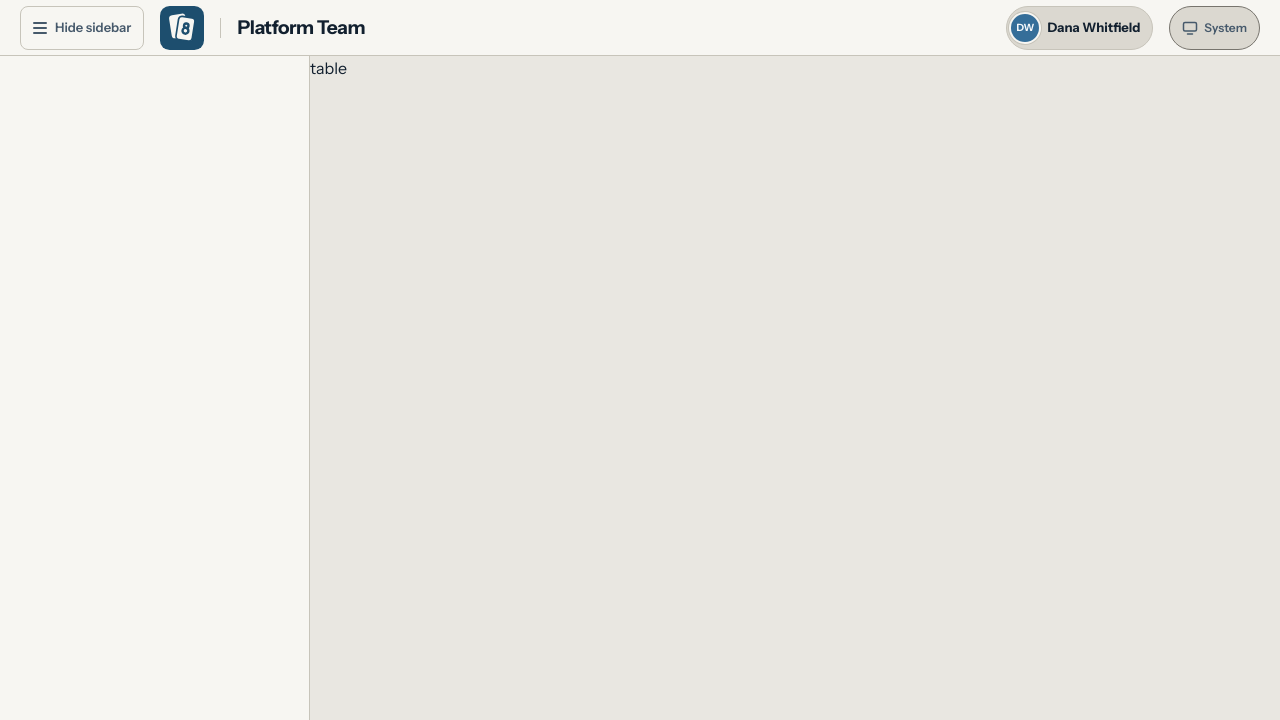
Scenario: audit polish (#882) › closes the account panel on Escape and refocuses the chip
Click the button with aria-label "Dana Whitfield — account menu". click: (1080, 28)
box: left=1006, top=6, right=1153, bottom=50
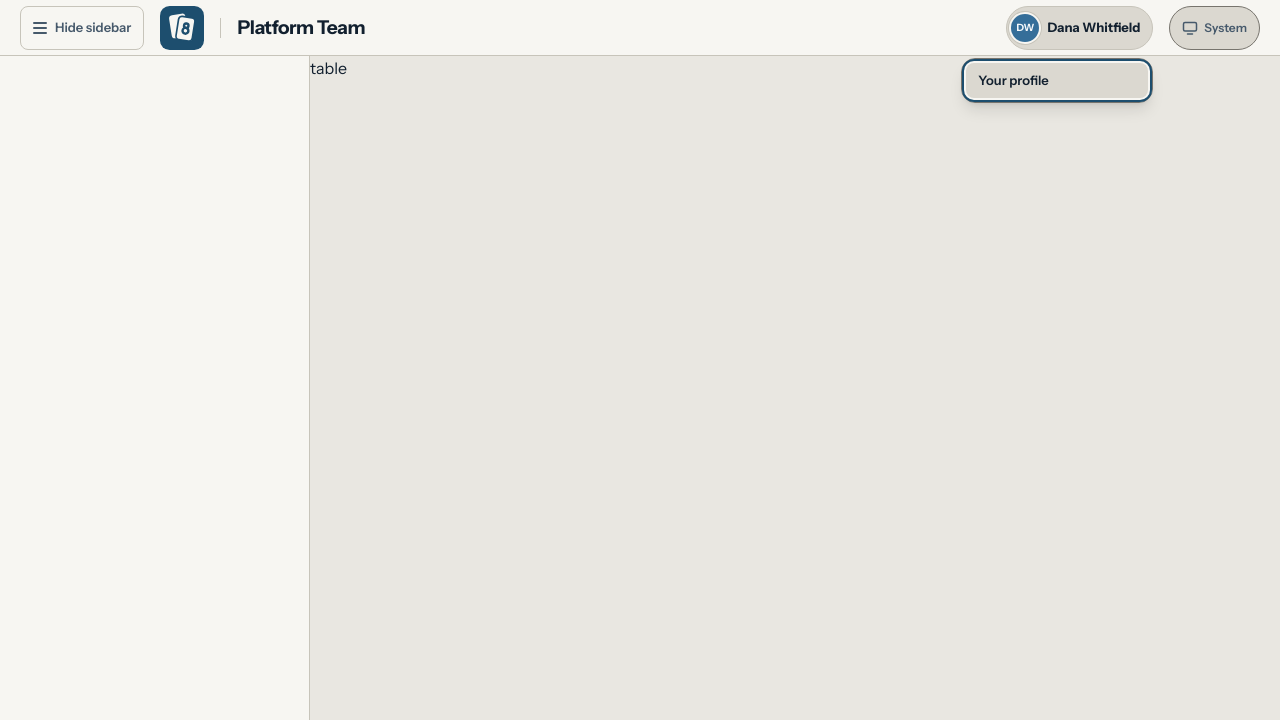
Expected: the element named "Account" is shown, left=961, top=58, right=1153, bottom=103
Press Escape
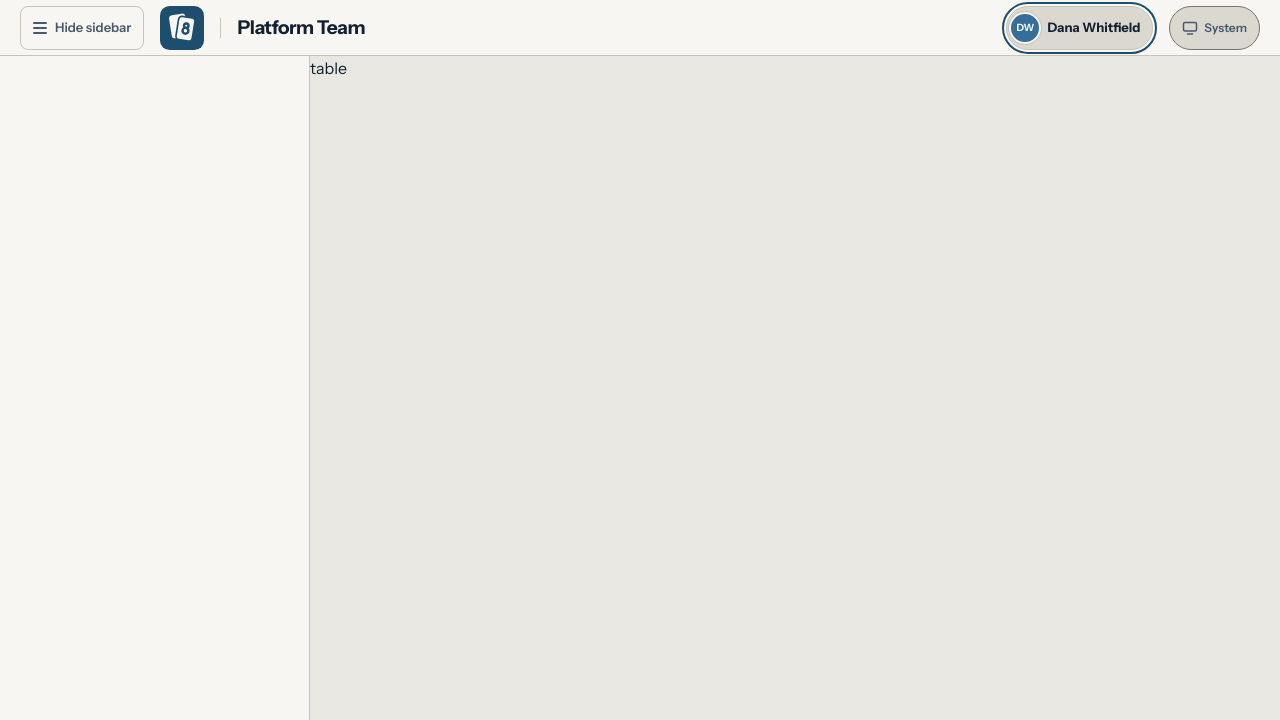
Expected: the element "Account" is gone
